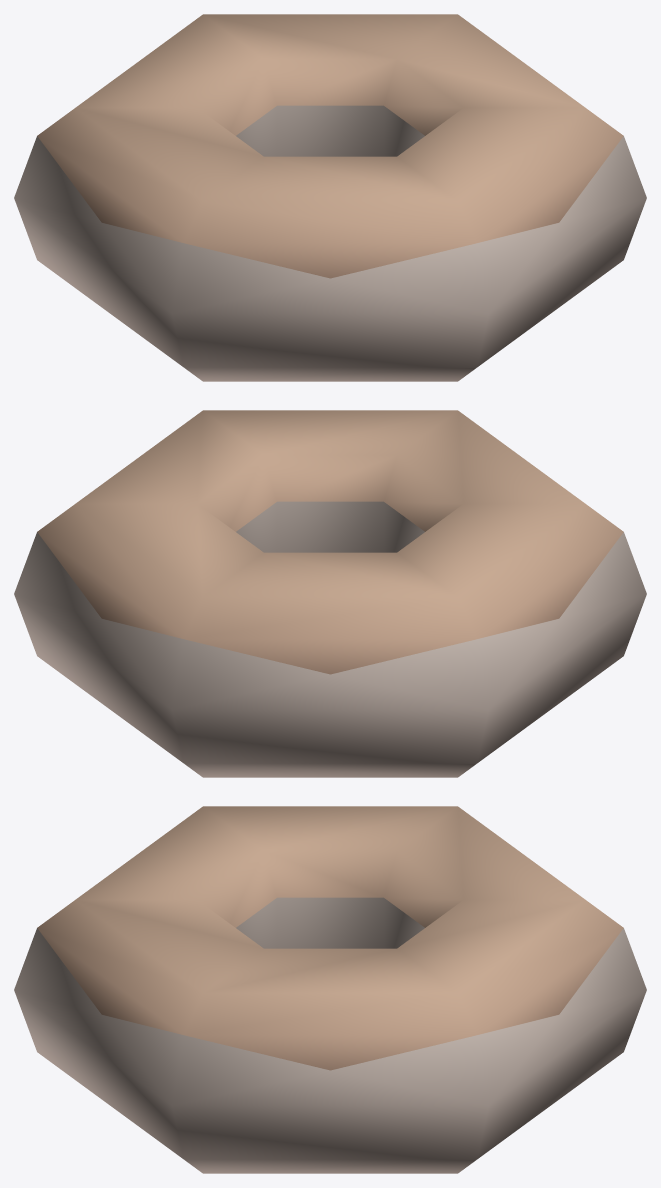
File: food-donut.glb
The picture shows the model from 3 angles, top to bottom: view 1: azimuth 30°, elevation 25°; view 2: azimuth 150°, elevation 25°; view 3: azimuth 270°, elevation 25°; orthographic projection.
Visible parts, largest first — view 1: food-donut; view 2: food-donut; view 3: food-donut.
Boxes of the visible parts, x1,y1,x2,y2 form: food-donut: [14, 14, 646, 381]; food-donut: [14, 410, 646, 777]; food-donut: [14, 806, 646, 1173].
Bounding box in the file's own units: 0.1764 × 0.064 × 0.2037.
